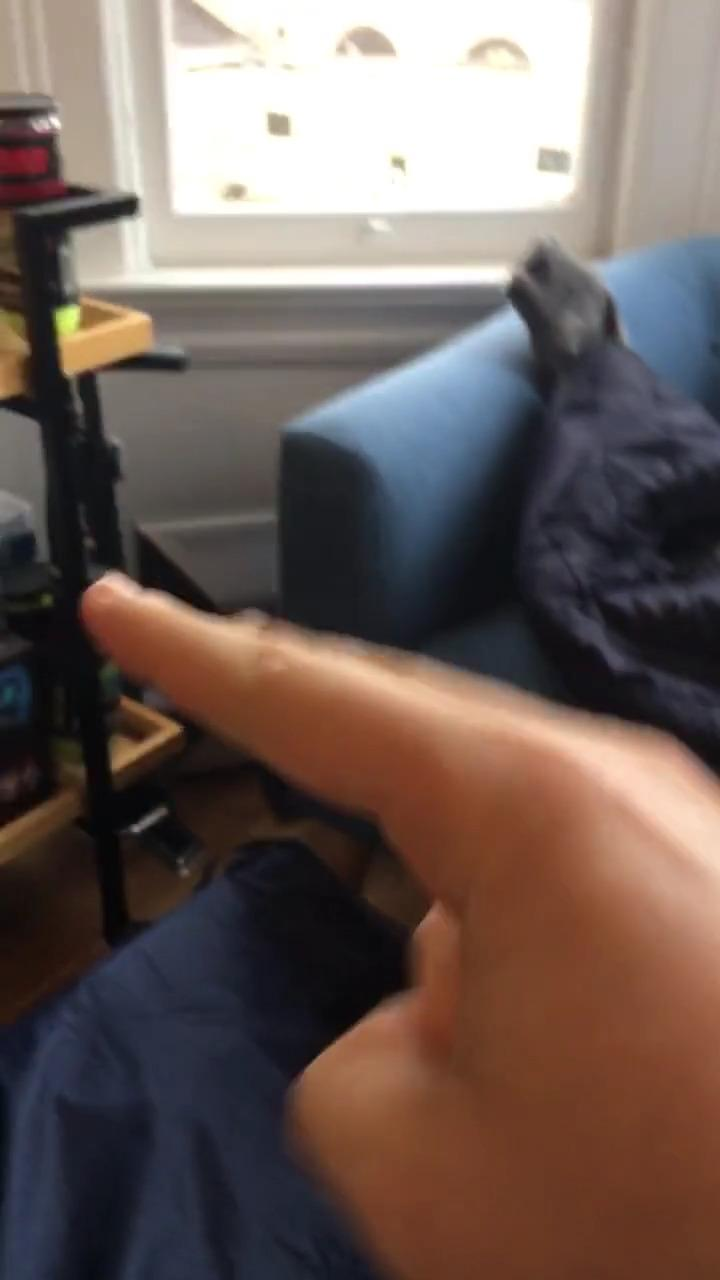Scissors: (70, 568, 720, 1280)
